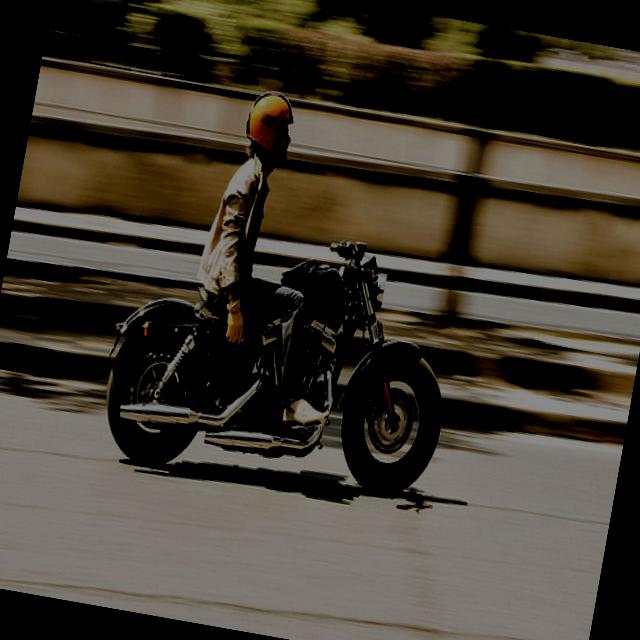Vehicle: (92, 201, 468, 513)
